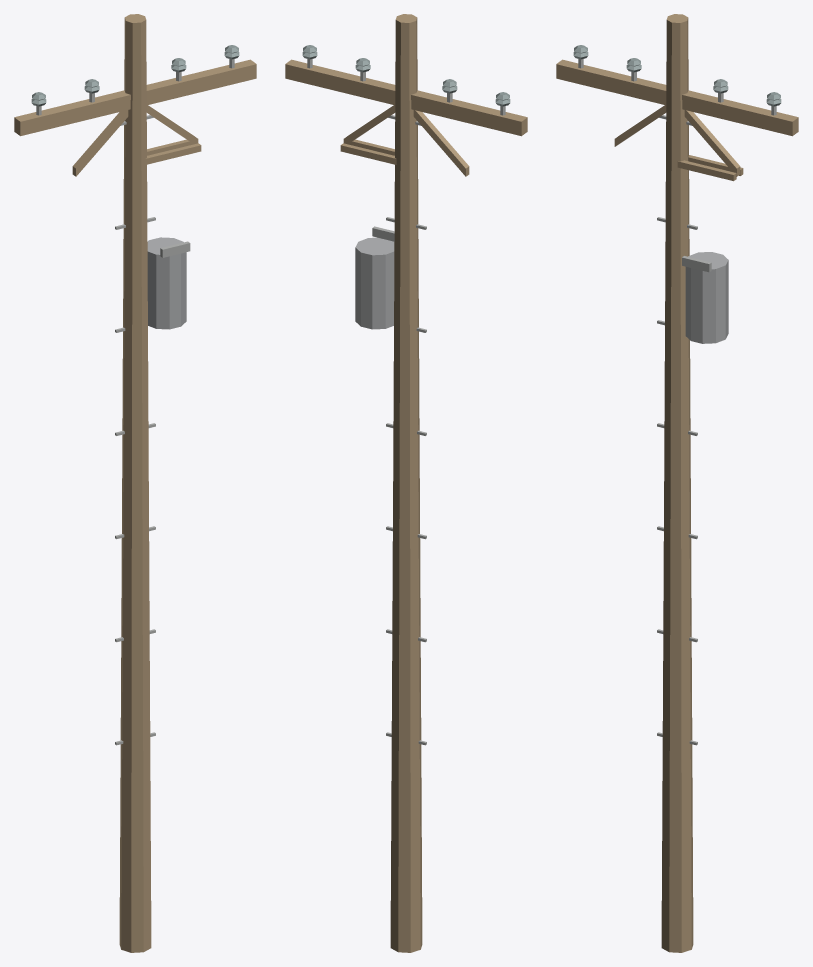
File: utilpole.glb
The picture shows the model from 3 angles, left to right: view 1: azimuth 30°, elevation 25°; view 2: azimuth 150°, elevation 25°; view 3: azimuth 330°, elevation 25°; orthographic projection.
Visible parts, largest first — view 1: NC_utilpole; view 2: NC_utilpole; view 3: NC_utilpole.
Boxes of the visible parts, bbox=[...] form: NC_utilpole: bbox=[14, 14, 256, 952]; NC_utilpole: bbox=[285, 14, 527, 952]; NC_utilpole: bbox=[556, 14, 798, 952].
Size of the model in its own units: 2.4 by 9 by 0.3807.
